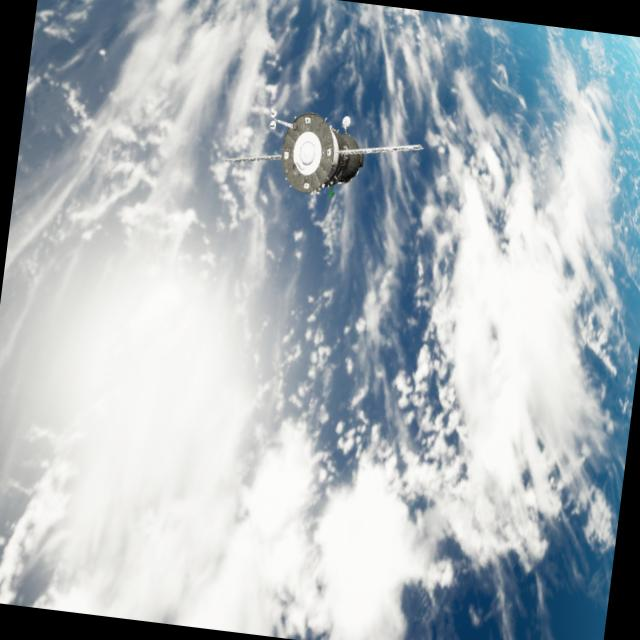Satellites revolving around earth: (218, 98, 427, 210)
